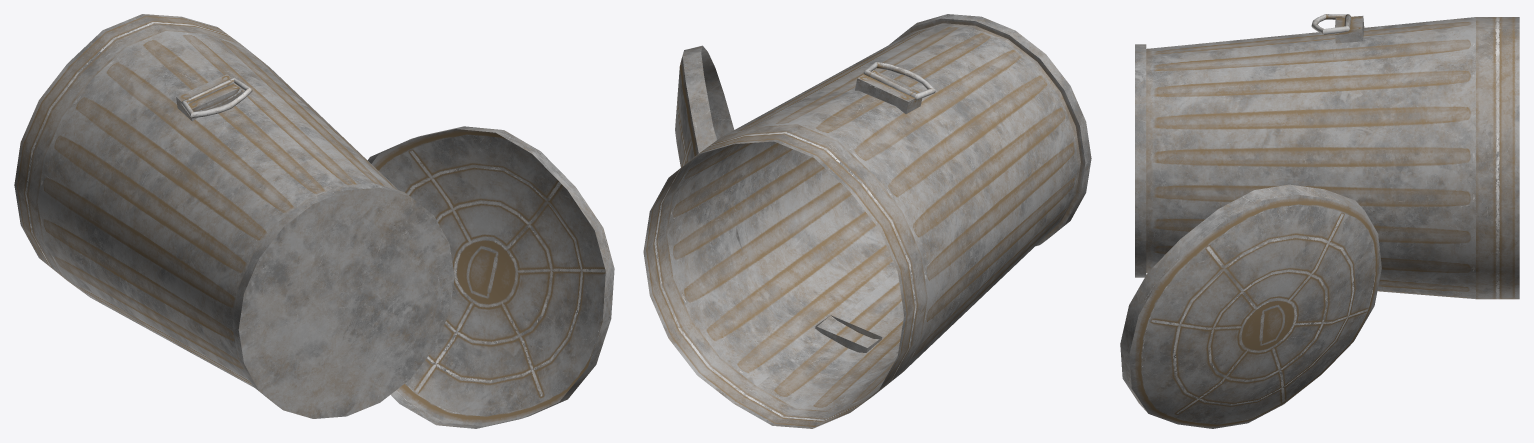
The model's file is basura.fbx.
3 views of the same model, side by side, from view 1: azimuth 30°, elevation 25°; view 2: azimuth 150°, elevation 25°; view 3: azimuth 270°, elevation 25° (orthographic). The views are drawn at different scales.
Visible parts, largest first — view 1: TrashCanny_001; view 2: TrashCanny_001; view 3: TrashCanny_001.
Part boxes in pixels (x1,y1,x2,y2): TrashCanny_001: (14, 14, 614, 428); TrashCanny_001: (643, 14, 1091, 428); TrashCanny_001: (1120, 14, 1519, 428).
Bounding box in the file's own units: 159 × 131 × 146.
1 material, 1 textured.
